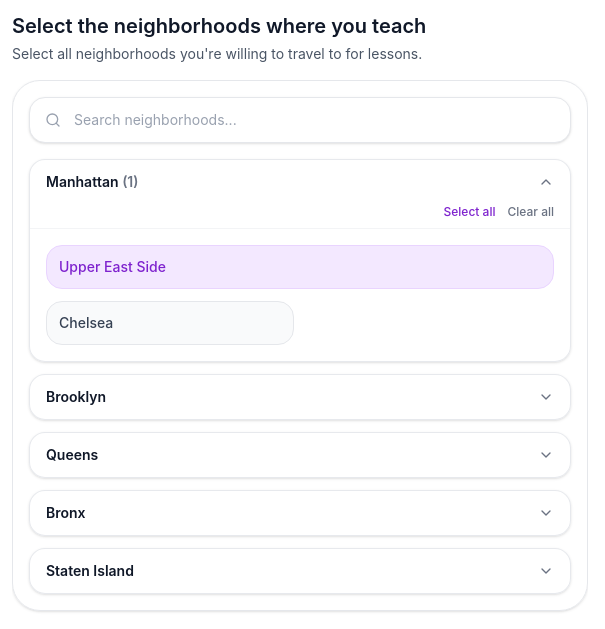
NeighborhoodSelector › renders chips without plus or checkmark icons
Expected: the button with test id "neighborhood-chip-ues" reads "Upper East Side", [46,245,554,289]
Click the button with test id "neighborhood-borough-manhattan" at (82, 182), box [46,172,554,192]
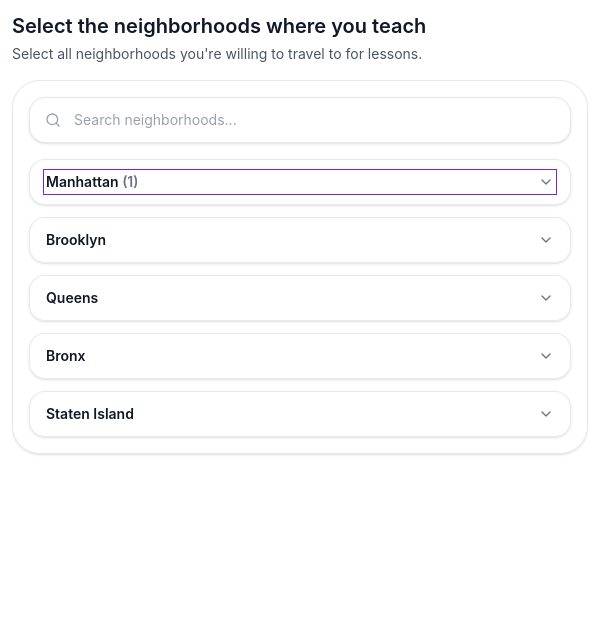
Click the button with test id "neighborhood-borough-manhattan" at (82, 182), box [46,172,554,192]
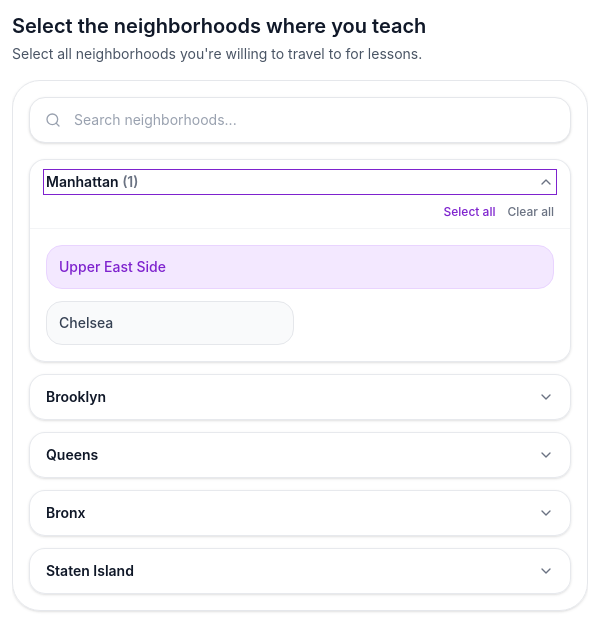
Expected: the button with test id "neighborhood-chip-chelsea" reads "Chelsea", [46,301,294,345]
